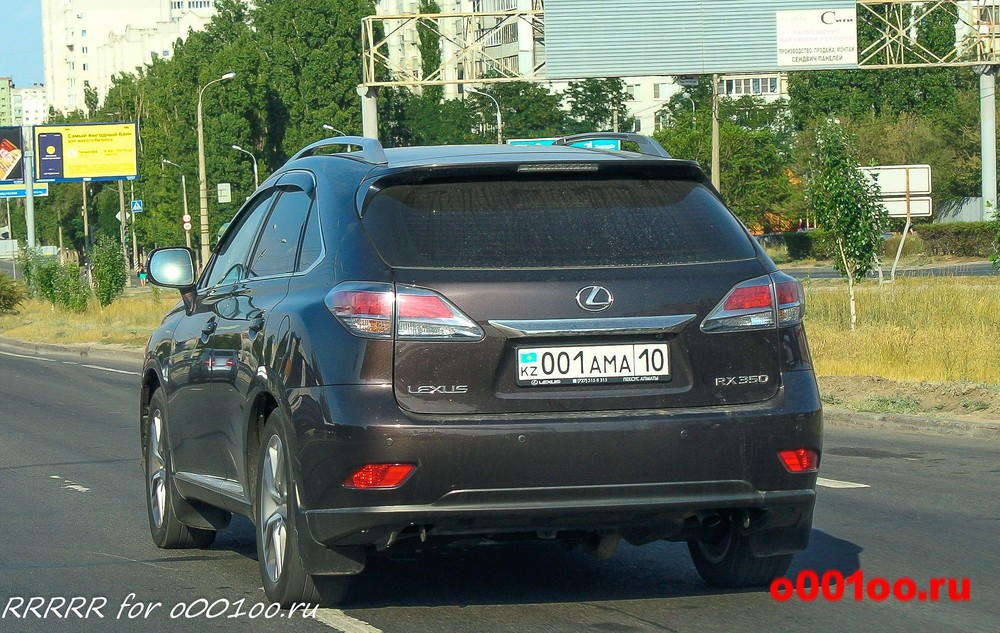license_plate: (518, 349, 677, 383)
